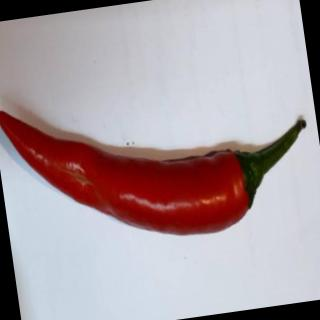Cabai Merah: (1, 63, 320, 262)
